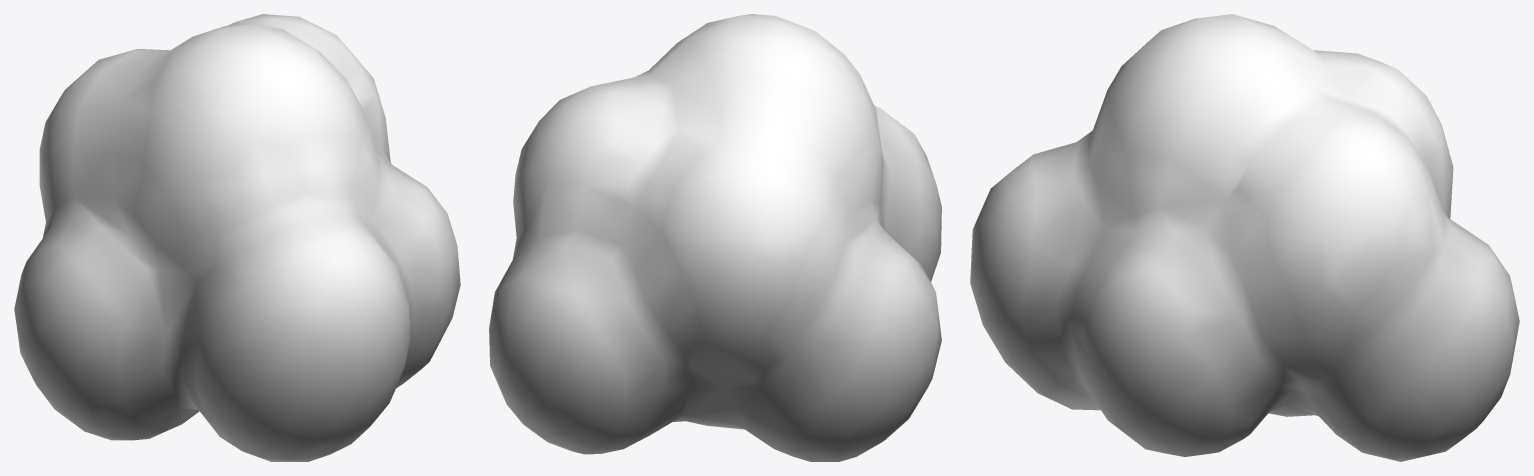
Rendered from birchBall1_lod.fbx.
The picture shows the model from 3 angles, left to right: view 1: azimuth 30°, elevation 25°; view 2: azimuth 150°, elevation 25°; view 3: azimuth 270°, elevation 25°; orthographic projection. The views are drawn at different scales.
Visible parts, largest first — view 1: birchBall1_LOD0; view 2: birchBall1_LOD0; view 3: birchBall1_LOD0.
Boxes of the visible parts, x1=… form: birchBall1_LOD0: x1=14, y1=14, x2=460, y2=461; birchBall1_LOD0: x1=489, y1=14, x2=941, y2=461; birchBall1_LOD0: x1=970, y1=14, x2=1519, y2=461.
Size of what is drawn, in the model's own units: 192 by 189 by 235.
Materials: 1 (1 with a texture image).
